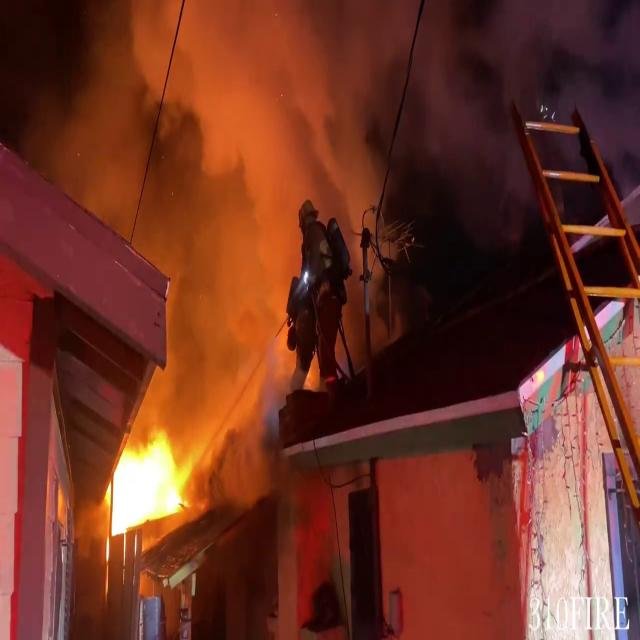Fire: (99, 420, 196, 547)
Smoke: (146, 0, 355, 461)
